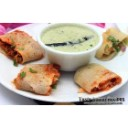dosa: (16, 64, 62, 97), (1, 26, 43, 62), (71, 63, 122, 89), (102, 28, 128, 56)
